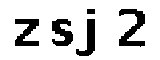2: (111, 6, 149, 49)
j: (74, 4, 103, 60)
s: (47, 17, 75, 48)
z: (9, 17, 43, 50)
